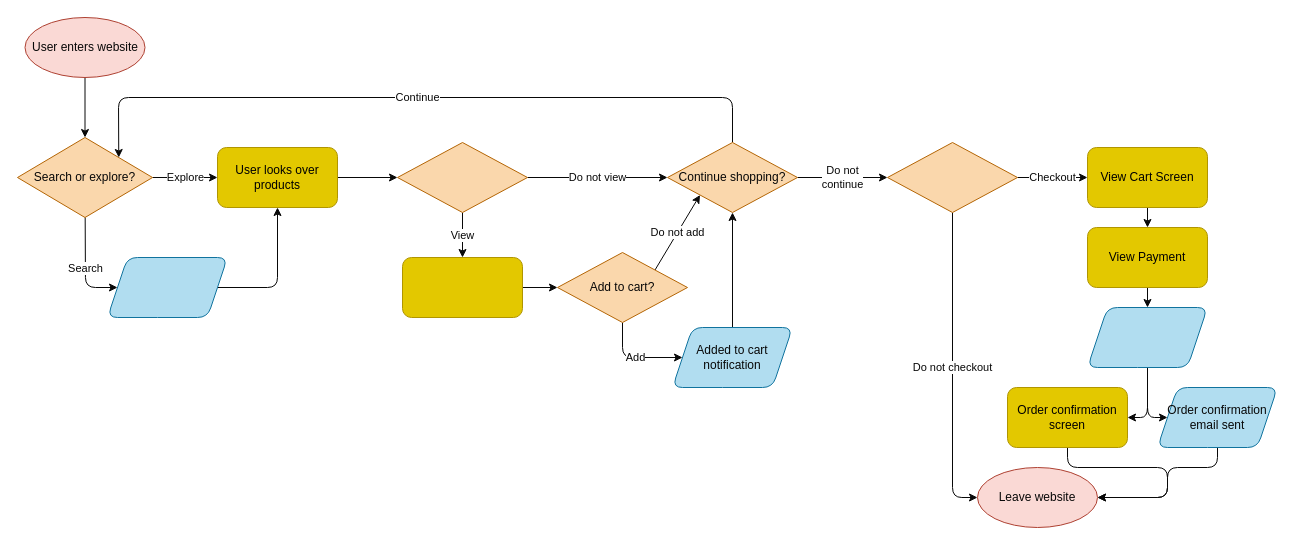
This 1295x545 diagram has some shape labels left out. The centre of each missing label's shape, as x and y in pixels:
"Checkout?" goes at point (952, 177).
"User brought to product webpage" goes at point (462, 287).
"User inputs payment info" goes at point (1147, 337).
"User provides search query" goes at point (167, 287).
"View product?" goes at point (462, 177).
